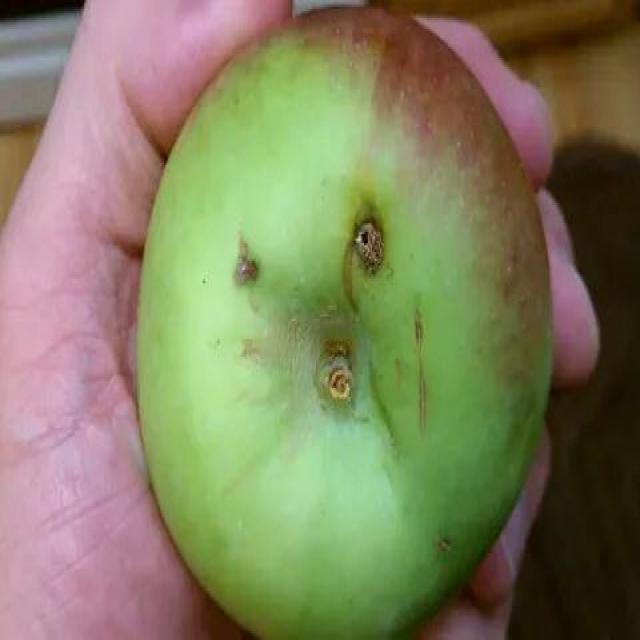Rotten Apple: (137, 8, 552, 636)
